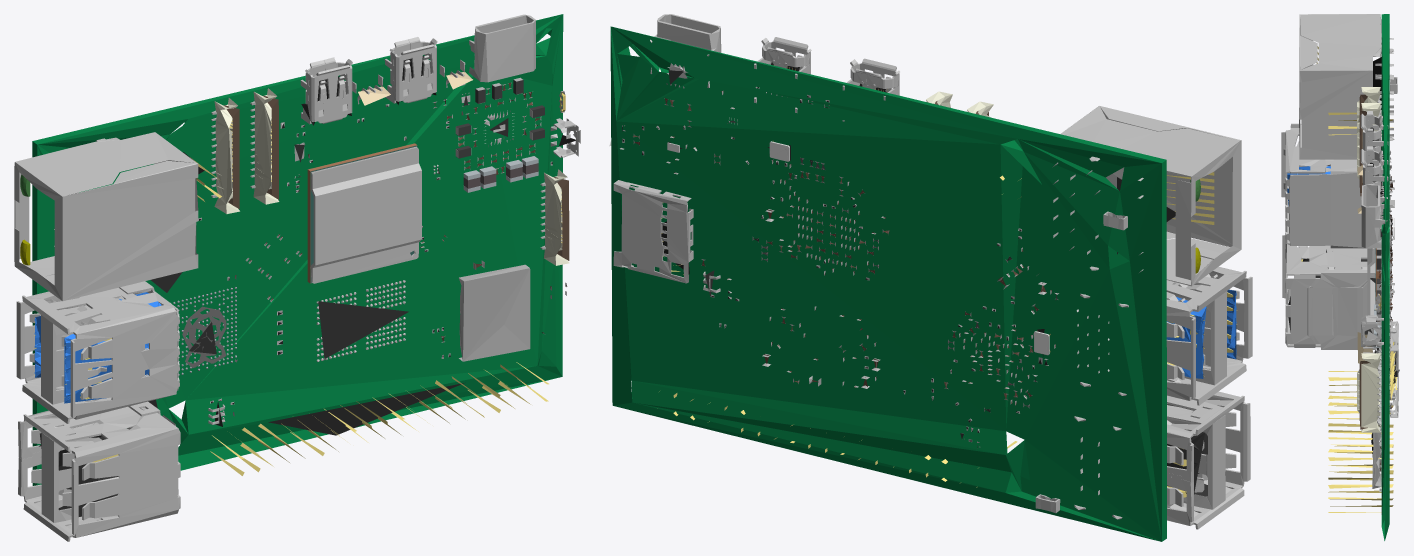
3 views of the same model, side by side, from view 1: azimuth 30°, elevation 25°; view 2: azimuth 150°, elevation 25°; view 3: azimuth 270°, elevation 25° (orthographic). The views are drawn at different scales.
Parts seen in each view (by area): view 1: pi5; view 2: pi5; view 3: pi5.
Boxes of the visible parts, x1,y1,x2,y2 form: pi5: [14, 14, 580, 541]; pi5: [609, 14, 1252, 541]; pi5: [1281, 14, 1399, 540].
Bounding box in the file's own units: 0.0886 × 0.0571 × 0.0191.
